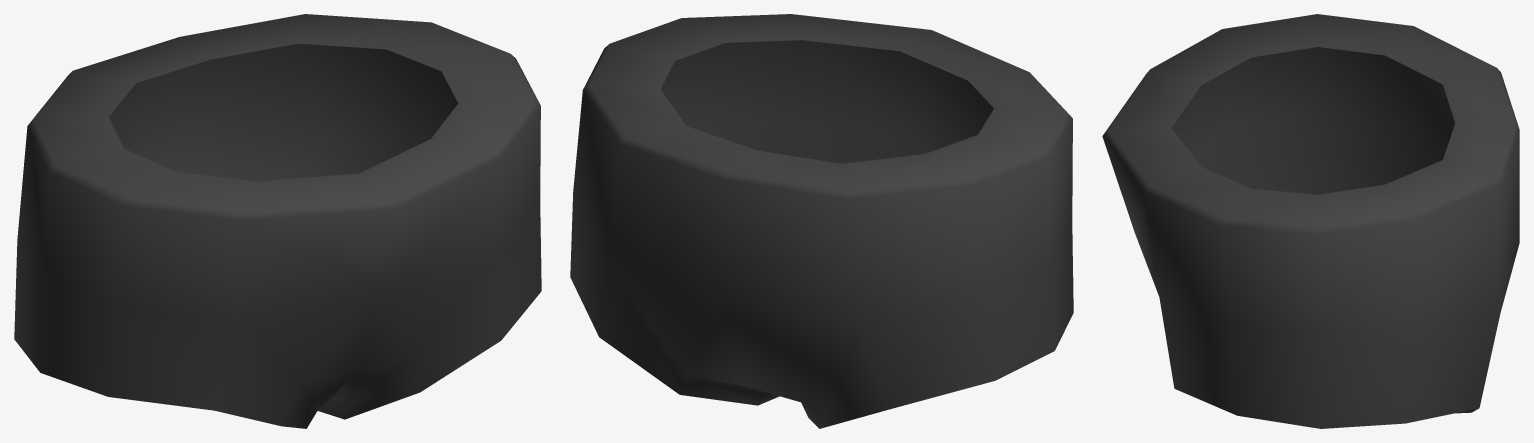
Rendered from Pants_Black_002.glb.
The picture shows the model from 3 angles, left to right: view 1: azimuth 30°, elevation 25°; view 2: azimuth 150°, elevation 25°; view 3: azimuth 270°, elevation 25°; orthographic projection. The views are drawn at different scales.
Parts seen in each view (by area): view 1: Pants_Black_002; view 2: Pants_Black_002; view 3: Pants_Black_002.
Part boxes in pixels (x1,y1,x2,y2): Pants_Black_002: (14, 14, 541, 428); Pants_Black_002: (570, 14, 1073, 428); Pants_Black_002: (1102, 14, 1519, 428).
Bounding box in the file's own units: 0.4529 × 0.2677 × 0.3561.
1 material, 1 textured.
